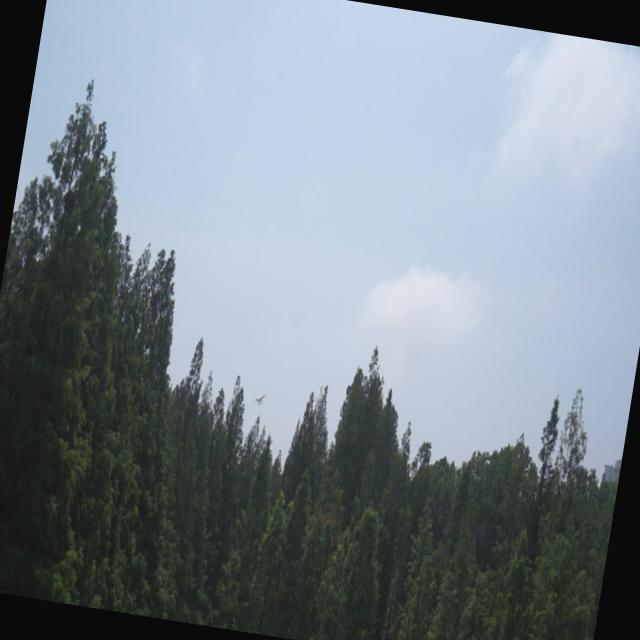drone: (253, 389, 269, 408)
